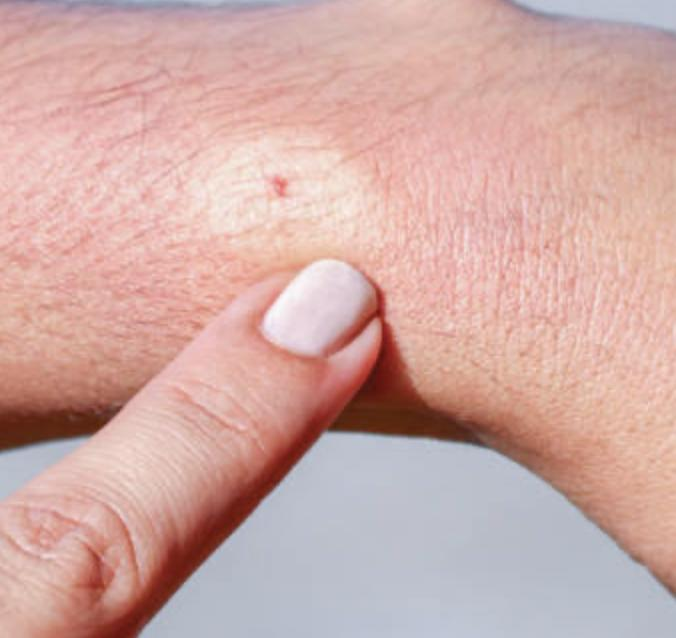Bee-bite: (220, 141, 348, 237)
